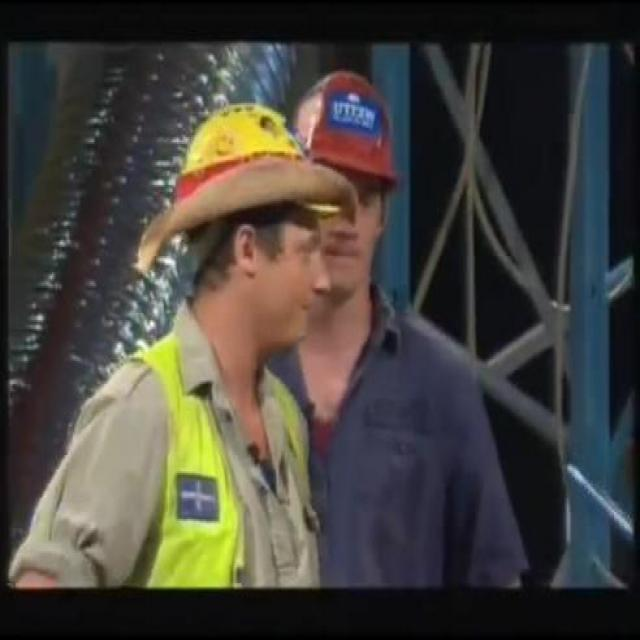Reflective-Jacket: (96, 327, 319, 596)
Safety-Helmet: (130, 92, 341, 281), (282, 58, 415, 212)
